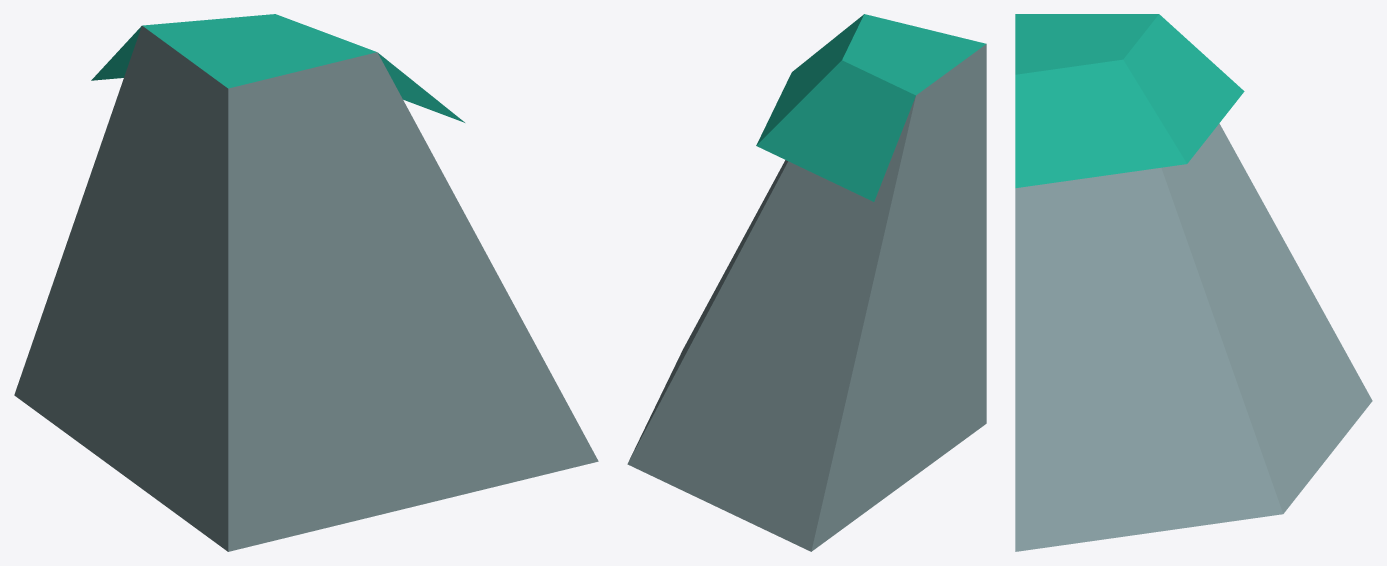
File: cliff_halfCorner_stone.glb
The picture shows the model from 3 angles, left to right: view 1: azimuth 30°, elevation 25°; view 2: azimuth 150°, elevation 25°; view 3: azimuth 270°, elevation 25°; orthographic projection. The views are drawn at different scales.
Parts seen in each view (by area): view 1: cliff_halfCorner_stone; view 2: cliff_halfCorner_stone; view 3: cliff_halfCorner_stone.
Boxes of the visible parts, x1,y1,x2,y2 form: cliff_halfCorner_stone: (14, 14, 598, 551); cliff_halfCorner_stone: (627, 14, 986, 551); cliff_halfCorner_stone: (1015, 14, 1372, 551).
Size of the model in its own units: 0.5022 by 0.6 by 0.5022.
